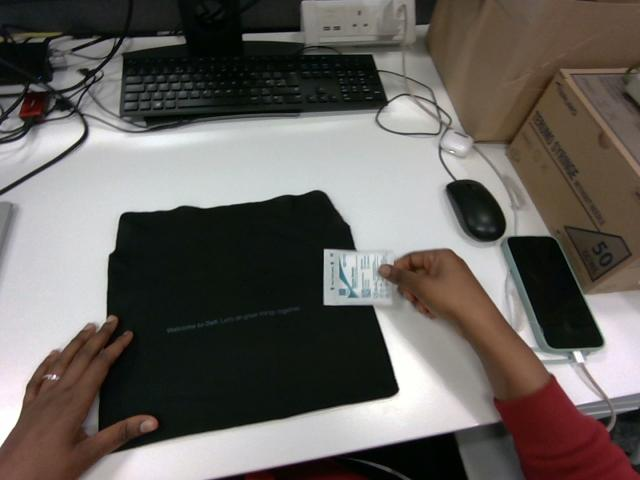gauze: (323, 249, 393, 305)
